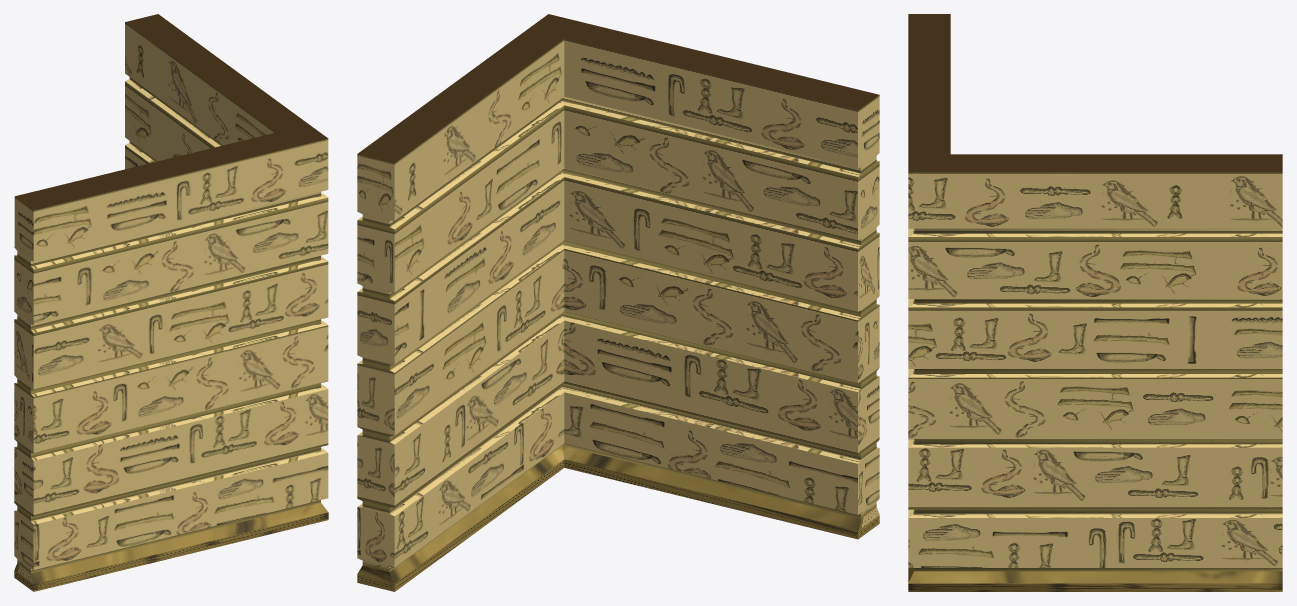
The model's file is InnerWall3.FBX.
The picture shows the model from 3 angles, left to right: view 1: azimuth 30°, elevation 25°; view 2: azimuth 150°, elevation 25°; view 3: azimuth 270°, elevation 25°; orthographic projection. The views are drawn at different scales.
Parts seen in each view (by area): view 1: Corner Wall; view 2: Corner Wall; view 3: Corner Wall.
Part boxes in pixels (x1,y1,x2,y2): Corner Wall: [14, 14, 328, 591]; Corner Wall: [357, 14, 879, 591]; Corner Wall: [908, 14, 1282, 591].
Size of the model in its own units: 78.65 by 97.29 by 78.65.
